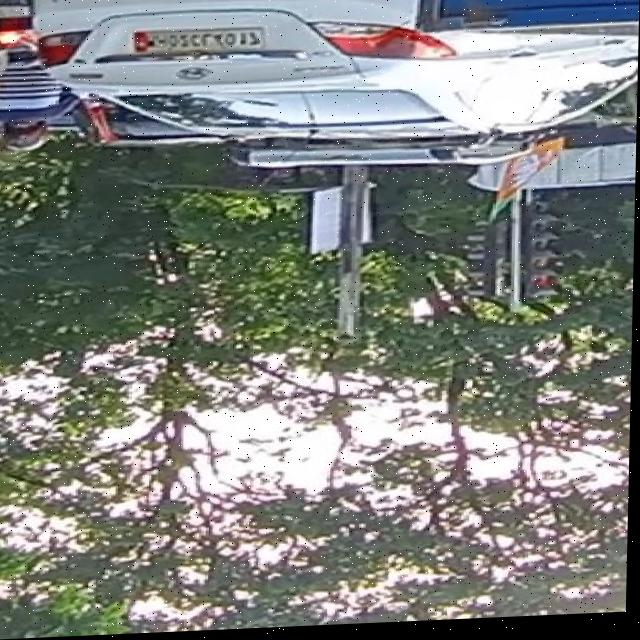plate: (126, 28, 268, 63)
